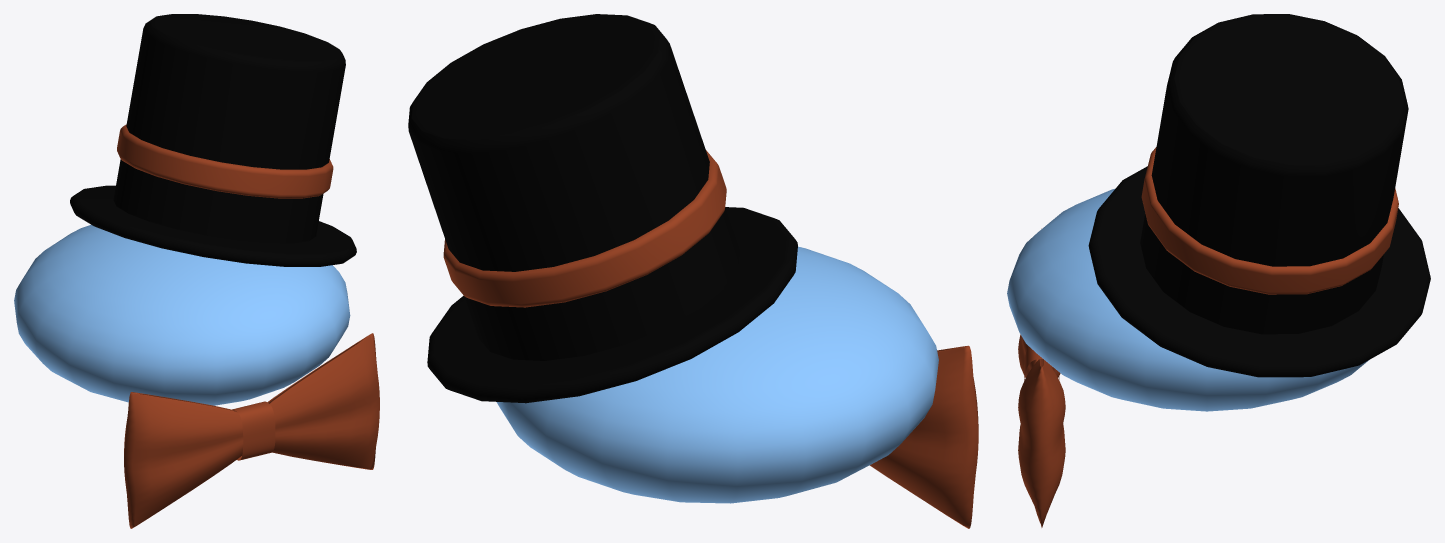
File: Mr. Pipis.fbx
The picture shows the model from 3 angles, left to right: view 1: azimuth 30°, elevation 25°; view 2: azimuth 150°, elevation 25°; view 3: azimuth 270°, elevation 25°; orthographic projection. The views are drawn at different scales.
Visible parts, largest first — view 1: pipis, top_hat; view 2: top_hat, pipis; view 3: top_hat, pipis.
Part boxes in pixels (<box>): pipis: <box>14,224,379,528</box>; top_hat: <box>70,14,356,266</box>; top_hat: <box>408,14,797,403</box>; pipis: <box>496,246,978,528</box>; top_hat: <box>1088,14,1430,377</box>; pipis: <box>1007,189,1368,527</box>.
Size of the model in its own units: 1.92 by 2.16 by 1.81.
